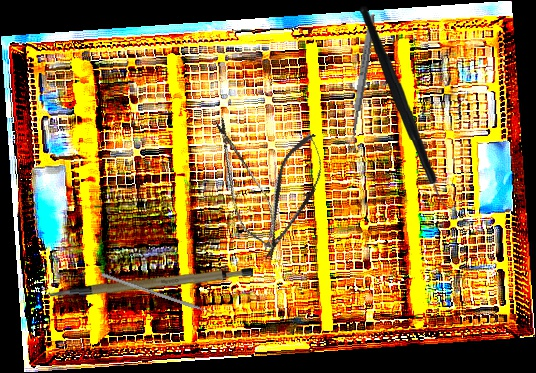Chopper: (357, 2, 462, 220)
Micro Scissor: (200, 112, 287, 257), (249, 127, 334, 267)
Pusher: (100, 272, 228, 320)
Scalpel Handle: (47, 257, 254, 305)
Surgical Spoon: (346, 13, 377, 152)
